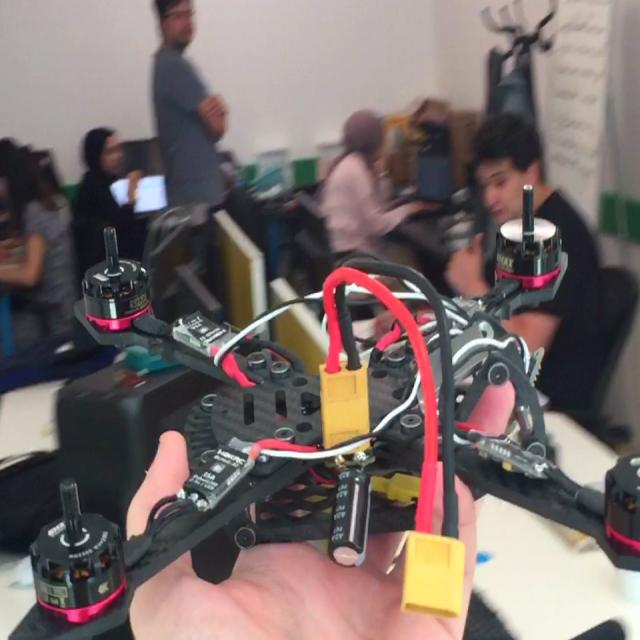drone: (2, 145, 640, 639)
